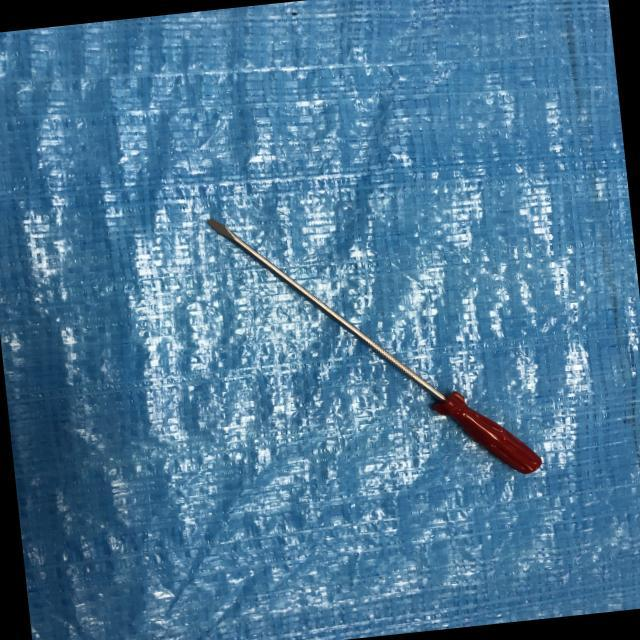screwdriver: (205, 187, 544, 502)
